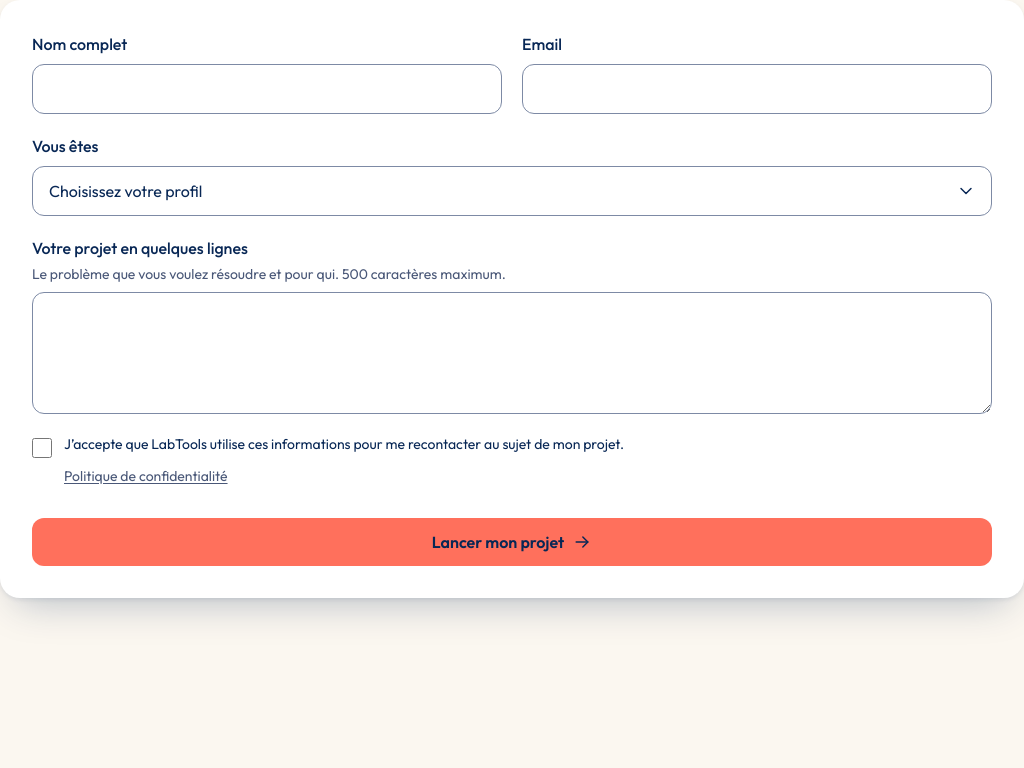
ProjectForm › signale les erreurs et place le focus sur le premier champ invalide
The width and height of the screenshot is (1024, 768).
What coordinates should you click on to do the following:
click the button "Lancer mon projet"
I would click on:
 (512, 542)
Its box is [32,518,992,566].
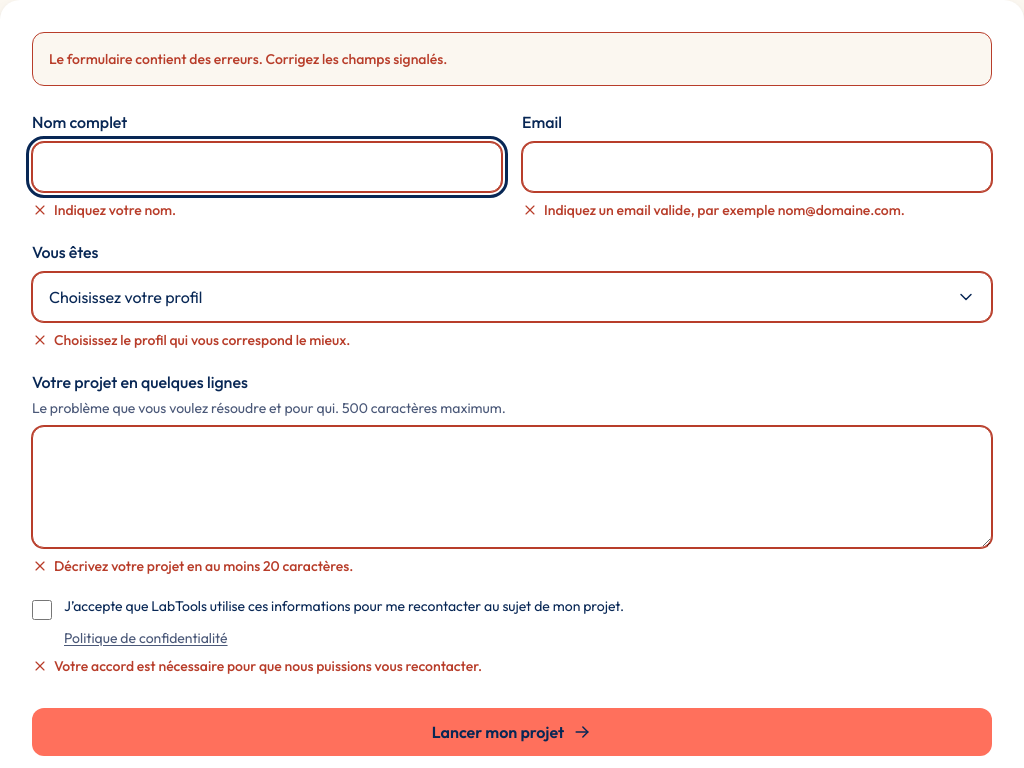
Expected: the button "Le formulaire contient des erreurs. Corrigez les champs signalés." is shown, [32,32,992,86]
